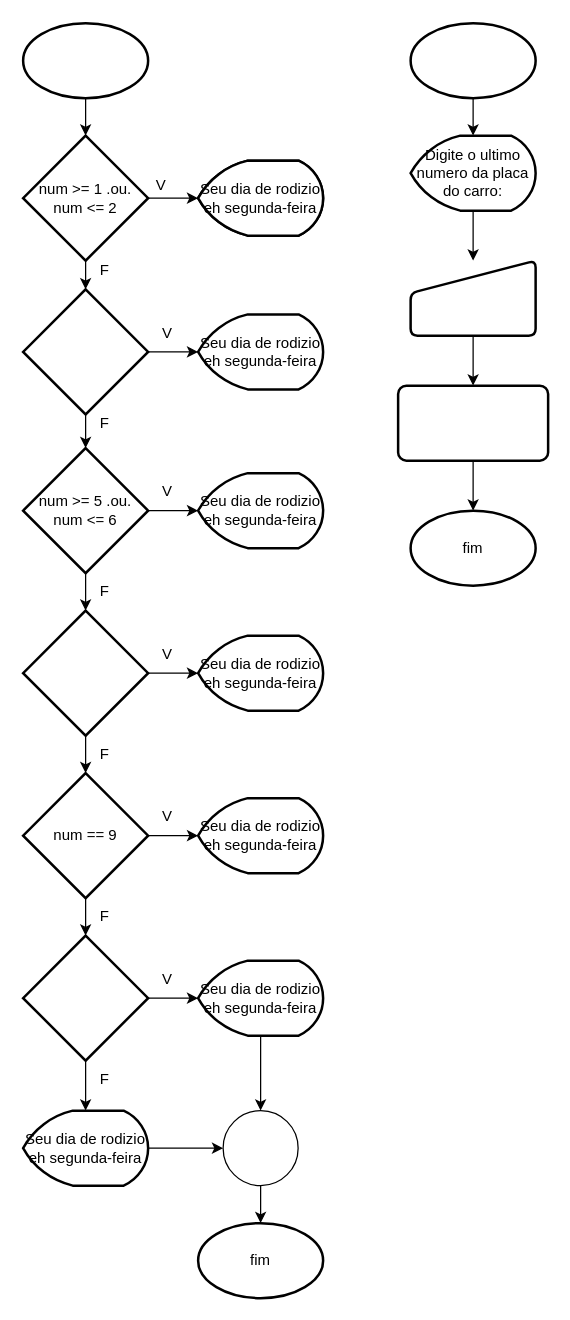
Image size: 570x1320. Some labels were removed from this diagram. Here are the shapes that lost their labels. From the top down, the centre of each, then its label:
At (85,60): "saudacao (hora : inteiro)".
At (472,60): "inicio".
At (472,297): "num".
At (85,351): "num >= 3 .ou. num <= 4".
At (472,422): "num_pla (num)".
At (85,672): "num >= 7 .ou. num <= 8".
At (85,997): "num == 0".
